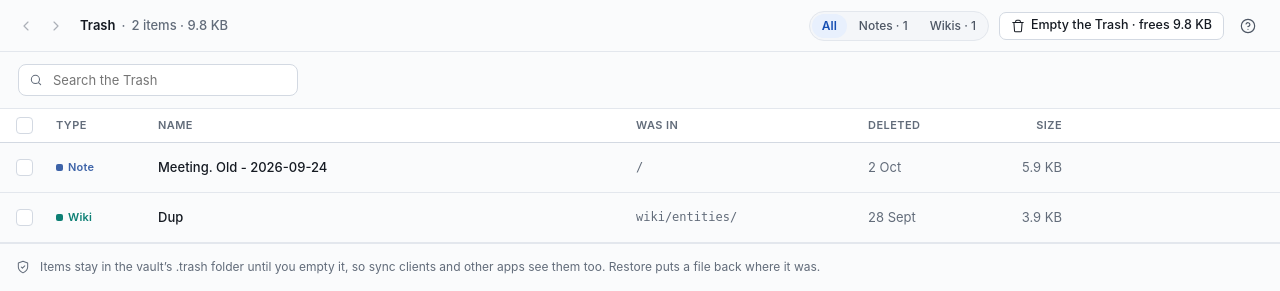
Scenario: Trash › searches by name and the folder it was in
Expected: the text "Dup" is shown, [158,209,183,225]
Type "entities" into the field labelled "Search the Trash" at point(169, 80), box [51,71,287,89]
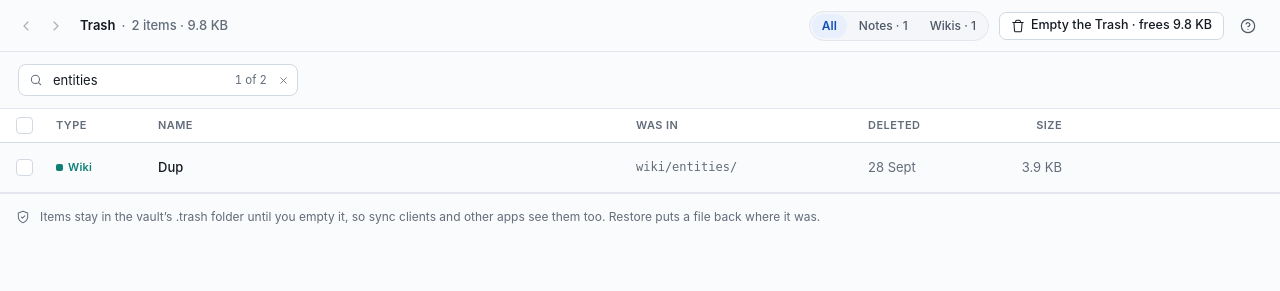
Expected: the text "Dup" is shown, [158,159,183,175]
Result: the text "Meeting. Old - 2026-09-24" is gone
Replace the text in the field named "Search the Trash" with "meeting old" at point(139, 80), box [51,71,227,89]
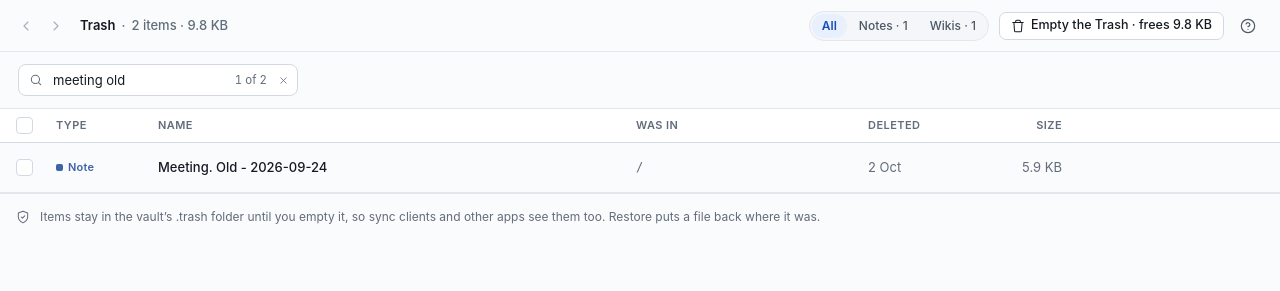
Result: the text "Meeting. Old - 2026-09-24" is shown at [158,159,327,175]
Result: the text "Dup" is gone
Replace the text in the field named "Search the Trash" with "zzz" at point(139, 80), box [51,71,227,89]
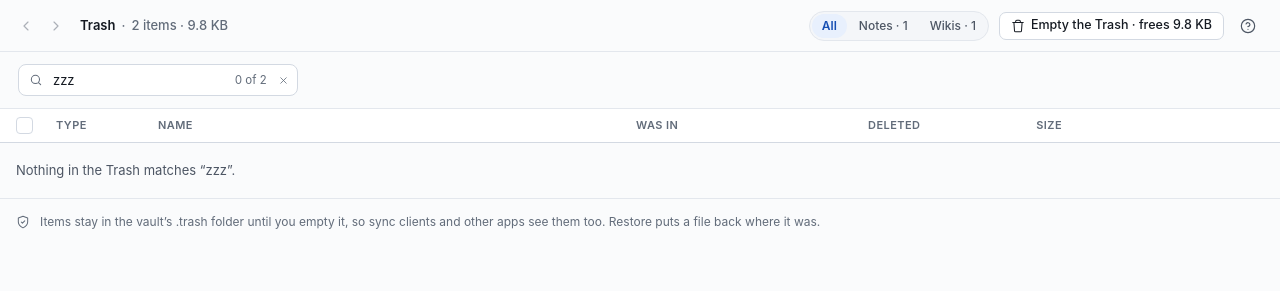
Result: the text "Nothing in the Trash matches “zzz”." is shown at [16,162,235,178]
